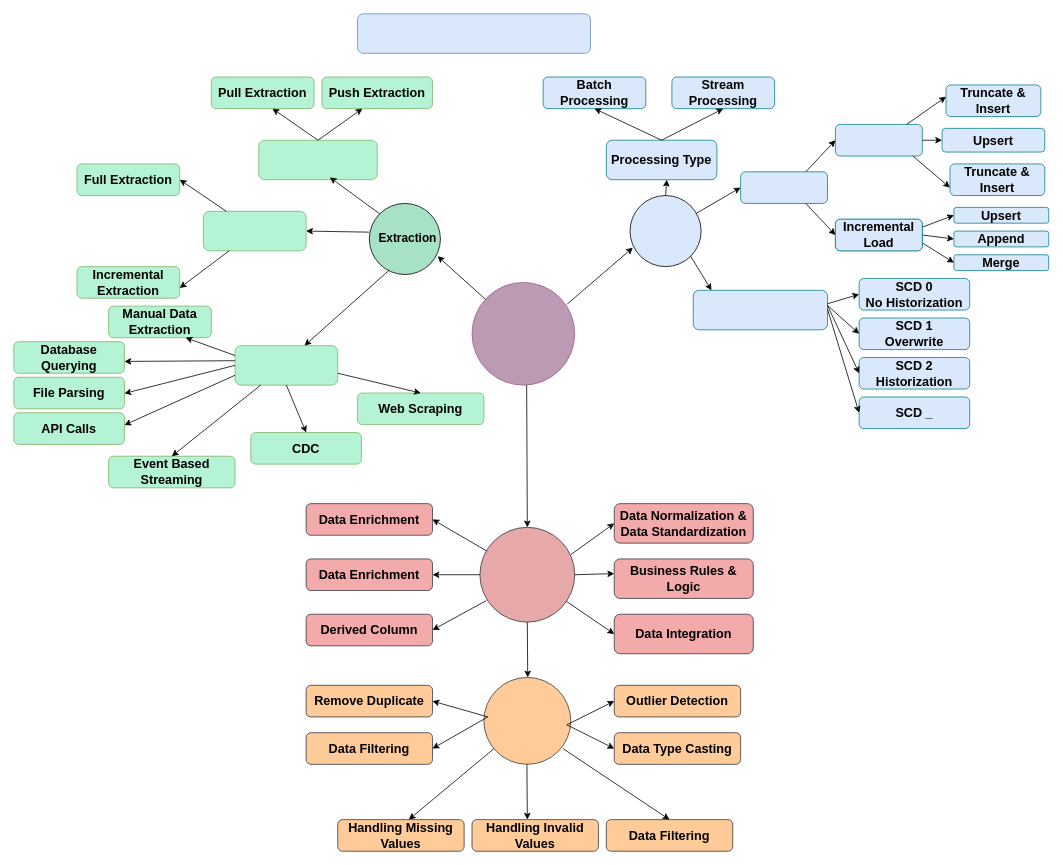
The diagram is 1063 pixels wide and 865 high, and some of its shapes have lost their labels. Here are the shapes that lost their labels. From the top down, the box of each, then its label:
(357, 13, 591, 53): ETL Methods
(258, 139, 377, 180): Extraction Methods
(835, 124, 922, 156): Full Load
(740, 171, 828, 203): Load Methods
(203, 211, 306, 251): Extract Type
(629, 195, 701, 267): Load
(692, 290, 828, 330): Slowly Changing Dimensions (SCD)
(471, 282, 575, 385): ETL
(234, 345, 338, 385): Extract Technique
(479, 527, 575, 622): Transformation
(483, 677, 571, 764): Data Cleansing
